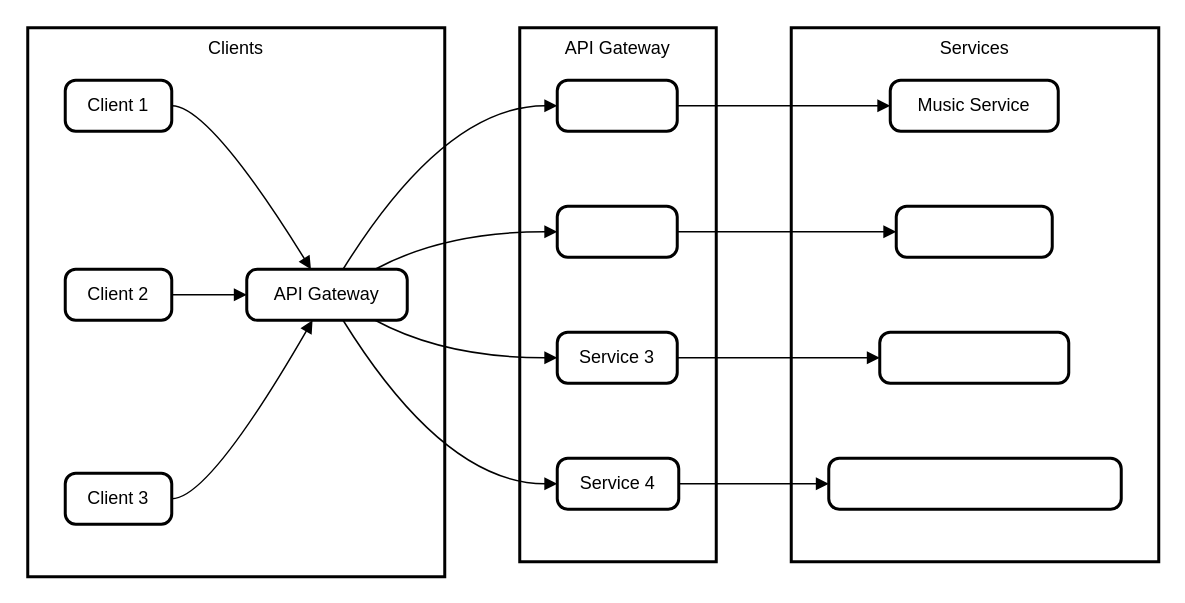
The diagram is 1185 pixels wide and 603 high, and some of its shapes have lost their labels. Here are the shapes that lost their labels. From the top down, the box of each, then its label:
(555, 78, 678, 132): Service 1
(555, 204, 678, 258): Service 2
(894, 204, 1053, 258): User Service
(878, 330, 1070, 384): Storage Service
(826, 456, 1122, 510): Recommendation Service
